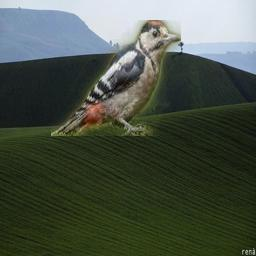Woodpecker: (51, 20, 181, 136)
